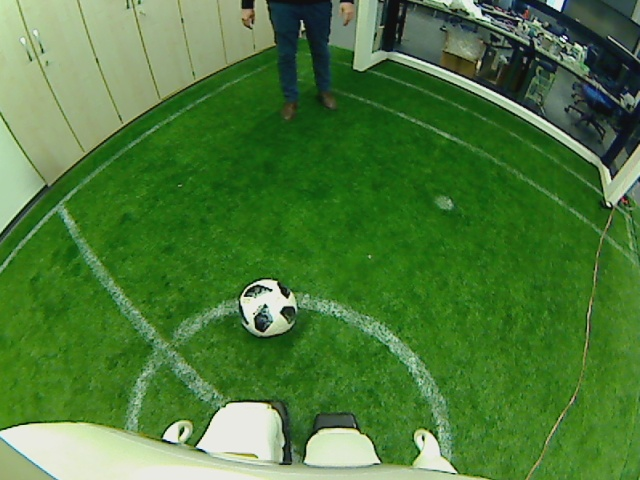ball: (238, 275, 302, 337)
